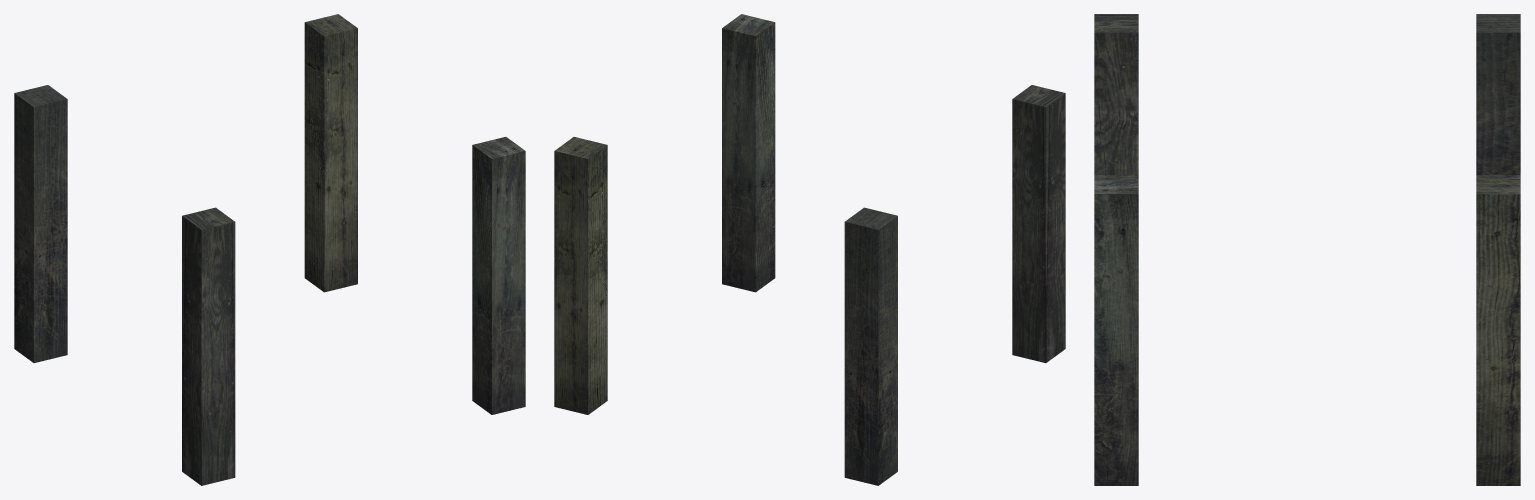
The model's file is OldWoodenPillars 1.5-2x2m.fbx.
3 views of the same model, side by side, from view 1: azimuth 30°, elevation 25°; view 2: azimuth 150°, elevation 25°; view 3: azimuth 270°, elevation 25° (orthographic). The views are drawn at different scales.
Visible parts, largest first — view 1: OldWoodenPillars_1_5-2x2m; view 2: OldWoodenPillars_1_5-2x2m; view 3: OldWoodenPillars_1_5-2x2m.
Part boxes in pixels (x1,y1,x2,y2): OldWoodenPillars_1_5-2x2m: (14, 14, 525, 485); OldWoodenPillars_1_5-2x2m: (554, 14, 1065, 485); OldWoodenPillars_1_5-2x2m: (1094, 14, 1520, 485).
Bounding box in the file's own units: 1.99 × 1.5 × 1.99.
